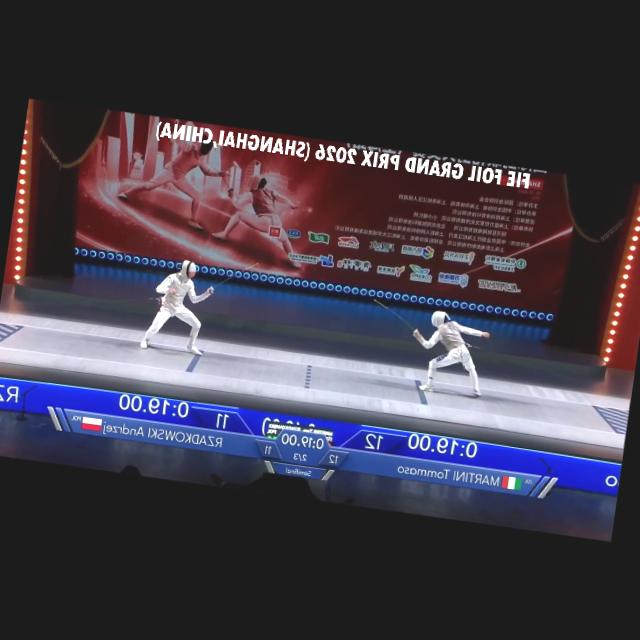blade: (208, 255, 260, 300), (368, 297, 426, 336)
